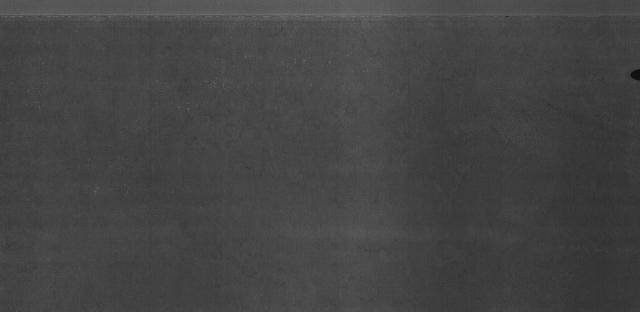punching_hole: (628, 65, 640, 81)
welding_line: (1, 11, 640, 25)
